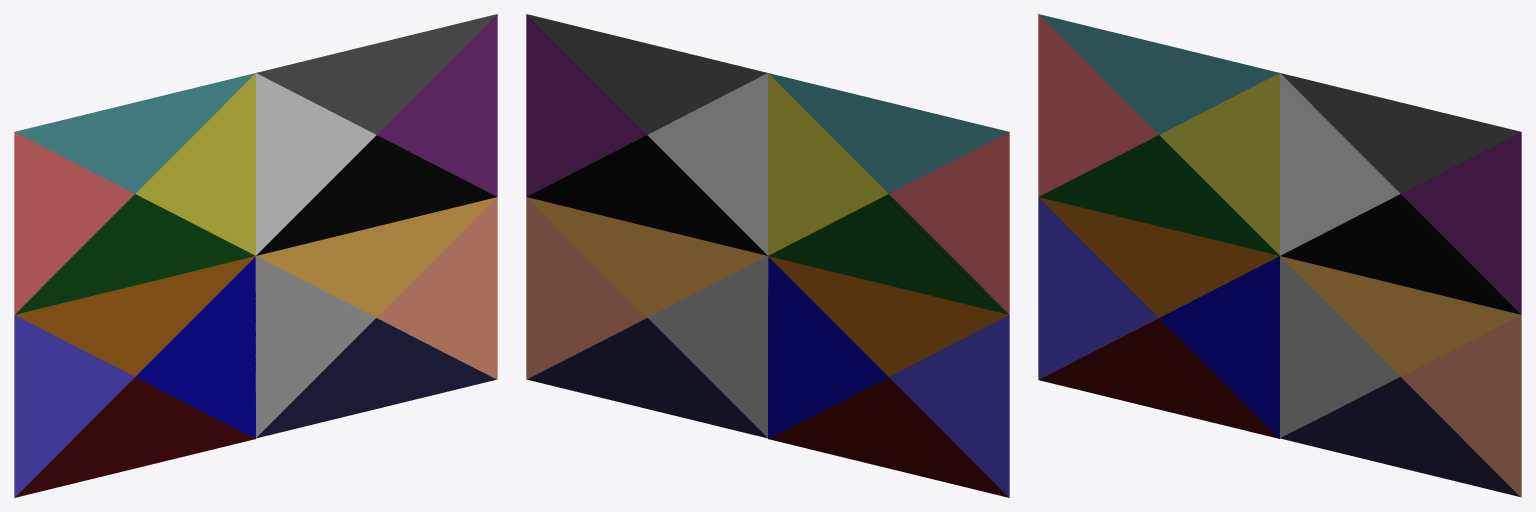
3 views of the same model, side by side, from view 1: azimuth 30°, elevation 25°; view 2: azimuth 150°, elevation 25°; view 3: azimuth 330°, elevation 25° (orthographic).
Visible parts, largest first — view 1: p4, p14, p2, p10, p8, p6, p12, p16, p1, p15, p7, p9 (+4 smaller); view 2: p4, p14, p16, p2, p10, p8, p6, p12, p1, p7, p9, p15 (+4 smaller); view 3: p10, p8, p6, p12, p14, p4, p2, p7, p9, p1, p15, p3 (+4 smaller).
Part boxes in pixels (left/top/right/bottom): p4: left=15, top=194, right=255, bottom=314; p14: left=257, top=197, right=496, bottom=317; p2: left=15, top=73, right=255, bottom=193; p10: left=15, top=256, right=255, bottom=376; p8: left=256, top=135, right=496, bottom=255; p6: left=256, top=14, right=496, bottom=134; p12: left=15, top=377, right=255, bottom=497; p16: left=256, top=318, right=496, bottom=438; p1: left=14, top=132, right=134, bottom=314; p15: left=377, top=197, right=497, bottom=379; p7: left=377, top=14, right=497, bottom=196; p9: left=14, top=315, right=134, bottom=497; p4: left=768, top=194, right=1008, bottom=314; p14: left=527, top=197, right=766, bottom=317; p16: left=527, top=318, right=767, bottom=438; p2: left=768, top=73, right=1008, bottom=193; p10: left=768, top=256, right=1008, bottom=376; p8: left=527, top=135, right=767, bottom=255; p6: left=527, top=14, right=767, bottom=134; p12: left=768, top=377, right=1008, bottom=497; p1: left=889, top=132, right=1009, bottom=314; p7: left=526, top=14, right=646, bottom=196; p9: left=889, top=315, right=1009, bottom=497; p15: left=526, top=197, right=646, bottom=379; p10: left=1039, top=197, right=1279, bottom=317; p8: left=1280, top=194, right=1520, bottom=314; p6: left=1280, top=73, right=1520, bottom=193; p12: left=1039, top=318, right=1279, bottom=438; p14: left=1280, top=256, right=1520, bottom=376; p4: left=1039, top=135, right=1279, bottom=255; p2: left=1039, top=14, right=1279, bottom=134; p7: left=1401, top=132, right=1521, bottom=314; p9: left=1038, top=197, right=1158, bottom=379; p1: left=1038, top=14, right=1158, bottom=196; p15: left=1401, top=315, right=1521, bottom=497; p3: left=1159, top=73, right=1279, bottom=255.
Size of the model in its own units: 0.29 by 0.21 by 4.77e-09.
